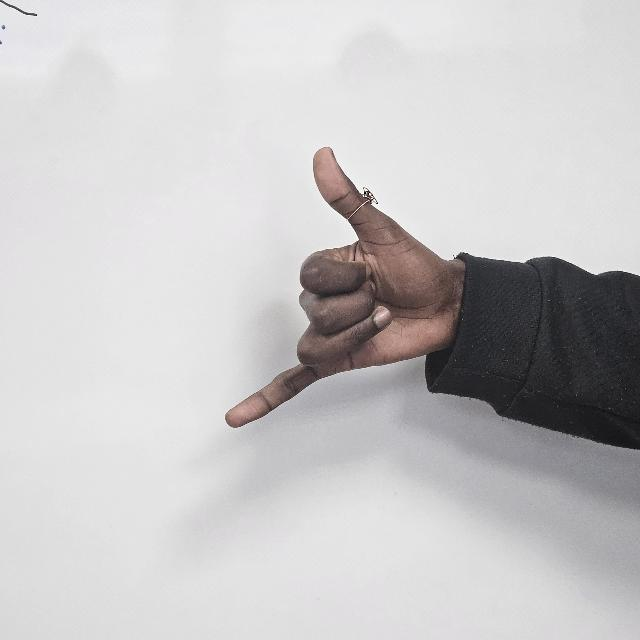Direita: (225, 144, 461, 458)
